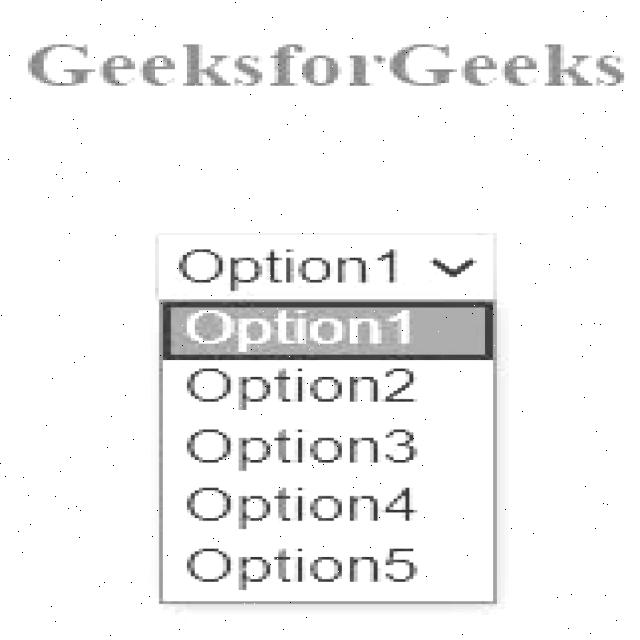dropdownMenu: (156, 228, 492, 606)
label: (23, 36, 632, 95)
menuItem: (166, 300, 488, 356), (182, 425, 420, 474), (183, 544, 419, 593), (180, 483, 420, 530), (180, 361, 425, 405)
